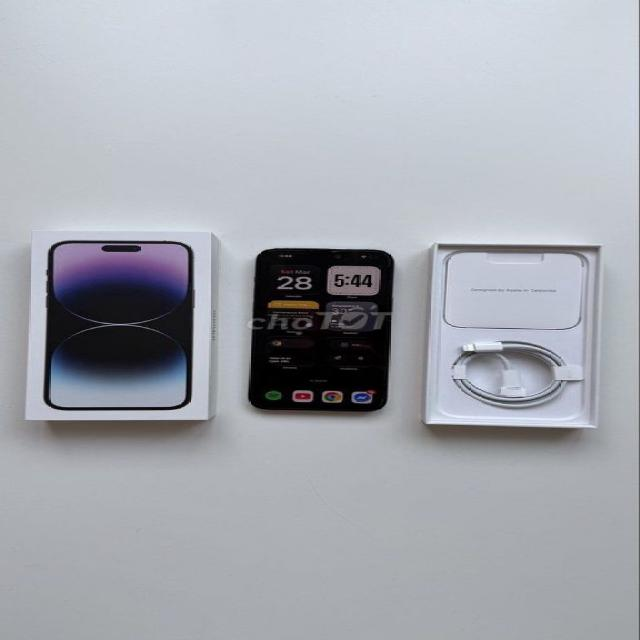gen_14: (248, 242, 398, 428)
